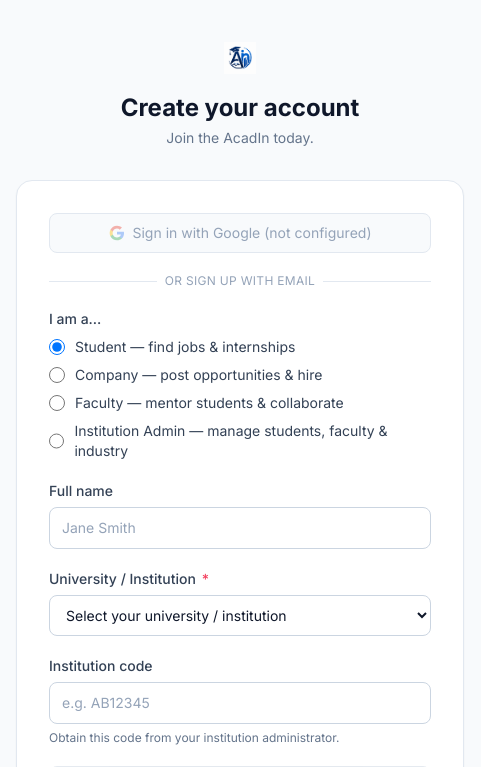
Test: Register page › shows institution-name, domain, address, city, state fields when INSTITUTION is selected (code is auto-generated)
Click the radio button labelled "Institution Admin — manage students, faculty & industry". click: {"x": 57, "y": 441}
box: x1=49 y1=433 x2=64 y2=449
(page scrolled)
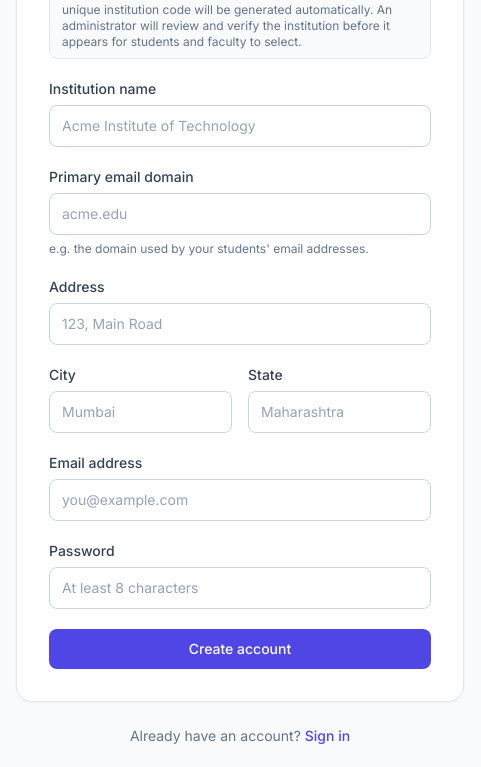
Now the field labelled "Institution name" is shown, box x1=49 y1=105 x2=431 y2=147
Now the field labelled "Primary email domain" is shown, box x1=49 y1=193 x2=431 y2=235
Now the field labelled "Address" is shown, box x1=49 y1=303 x2=431 y2=345
